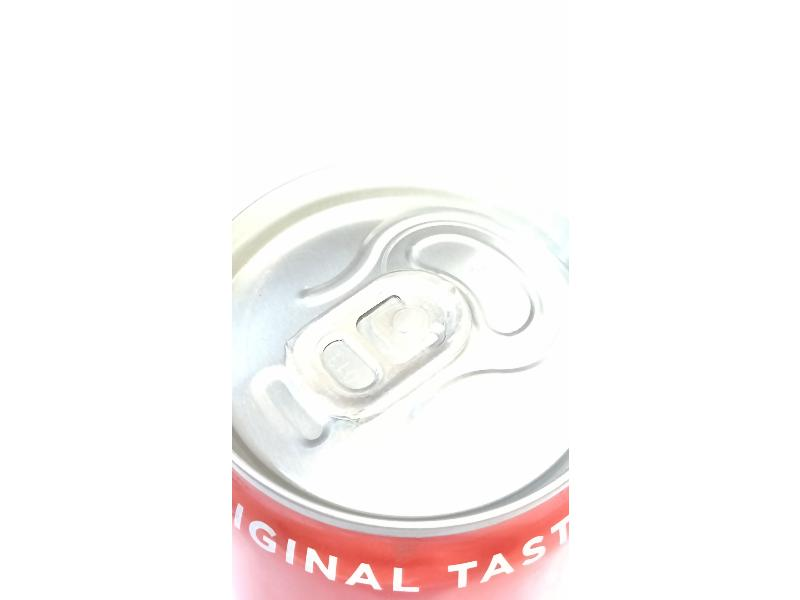can: (228, 171, 571, 600)
